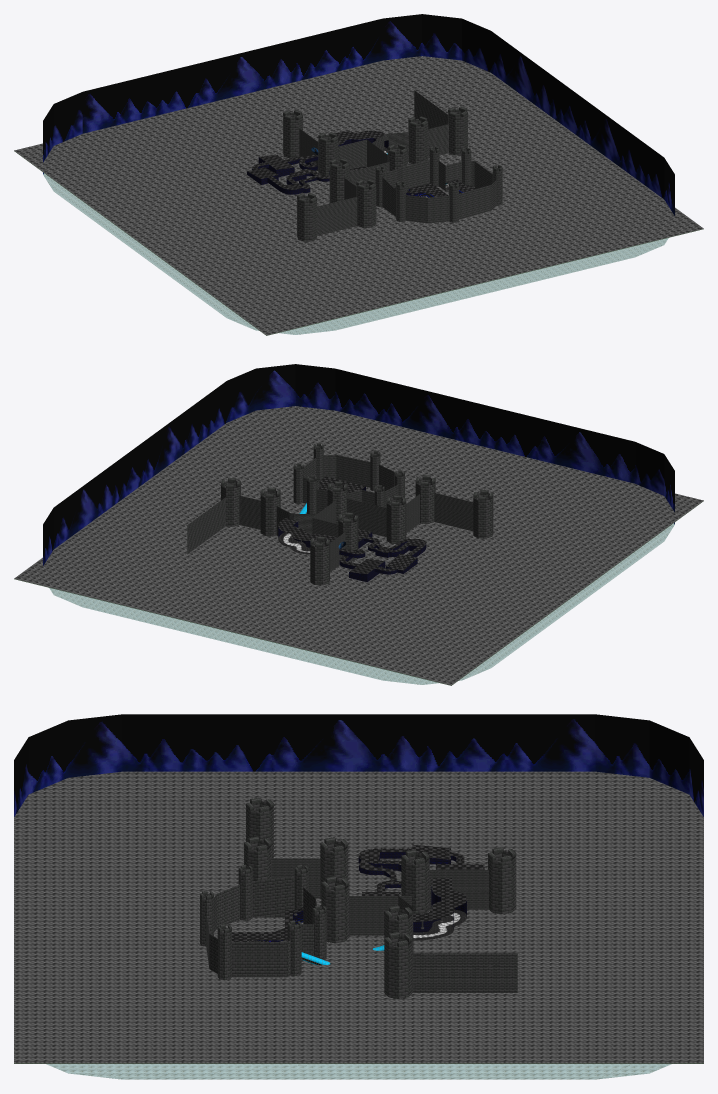
The picture shows the model from 3 angles, top to bottom: view 1: azimuth 30°, elevation 25°; view 2: azimuth 150°, elevation 25°; view 3: azimuth 270°, elevation 25°; orthographic projection. The views are drawn at different scales.
Visible parts, largest first — view 1: obj_pocha3Mesh, obj_mountainMesh, obj_castlebrickMesh, obj_sandMesh, obj_tileMesh, obj_brickMesh, obj_pocha2Mesh; view 2: obj_pocha3Mesh, obj_mountainMesh, obj_castlebrickMesh, obj_sandMesh, obj_tileMesh, obj_brickMesh, obj_pocha2Mesh; view 3: obj_pocha3Mesh, obj_mountainMesh, obj_castlebrickMesh, obj_sandMesh, obj_tileMesh, obj_brickMesh, obj_pocha2Mesh.
Boxes of the visible parts, x1=… form: obj_pocha3Mesh: x1=14, y1=56, x2=703, y2=335; obj_mountainMesh: x1=43, y1=14, x2=674, y2=215; obj_castlebrickMesh: x1=283, y1=90, x2=502, y2=241; obj_sandMesh: x1=43, y1=173, x2=668, y2=334; obj_tileMesh: x1=247, y1=130, x2=476, y2=196; obj_brickMesh: x1=247, y1=138, x2=428, y2=197; obj_pocha2Mesh: x1=14, y1=151, x2=703, y2=335; obj_pocha3Mesh: x1=14, y1=406, x2=703, y2=685; obj_mountainMesh: x1=43, y1=364, x2=674, y2=565; obj_castlebrickMesh: x1=187, y1=443, x2=493, y2=585; obj_sandMesh: x1=49, y1=523, x2=674, y2=684; obj_tileMesh: x1=278, y1=476, x2=425, y2=573; obj_brickMesh: x1=278, y1=486, x2=426, y2=582; obj_pocha2Mesh: x1=14, y1=501, x2=703, y2=685; obj_pocha3Mesh: x1=14, y1=771, x2=703, y2=1063; obj_mountainMesh: x1=14, y1=714, x2=703, y2=816; obj_castlebrickMesh: x1=200, y1=797, x2=517, y2=998; obj_sandMesh: x1=46, y1=1064, x2=671, y2=1079; obj_tileMesh: x1=232, y1=844, x2=484, y2=941; obj_brickMesh: x1=254, y1=852, x2=466, y2=941; obj_pocha2Mesh: x1=14, y1=879, x2=703, y2=1063.
Size of the model in its own units: 306488 by 38682 by 306488.
23 materials, 23 textured.
